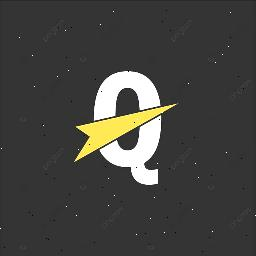q: (68, 60, 196, 200)
